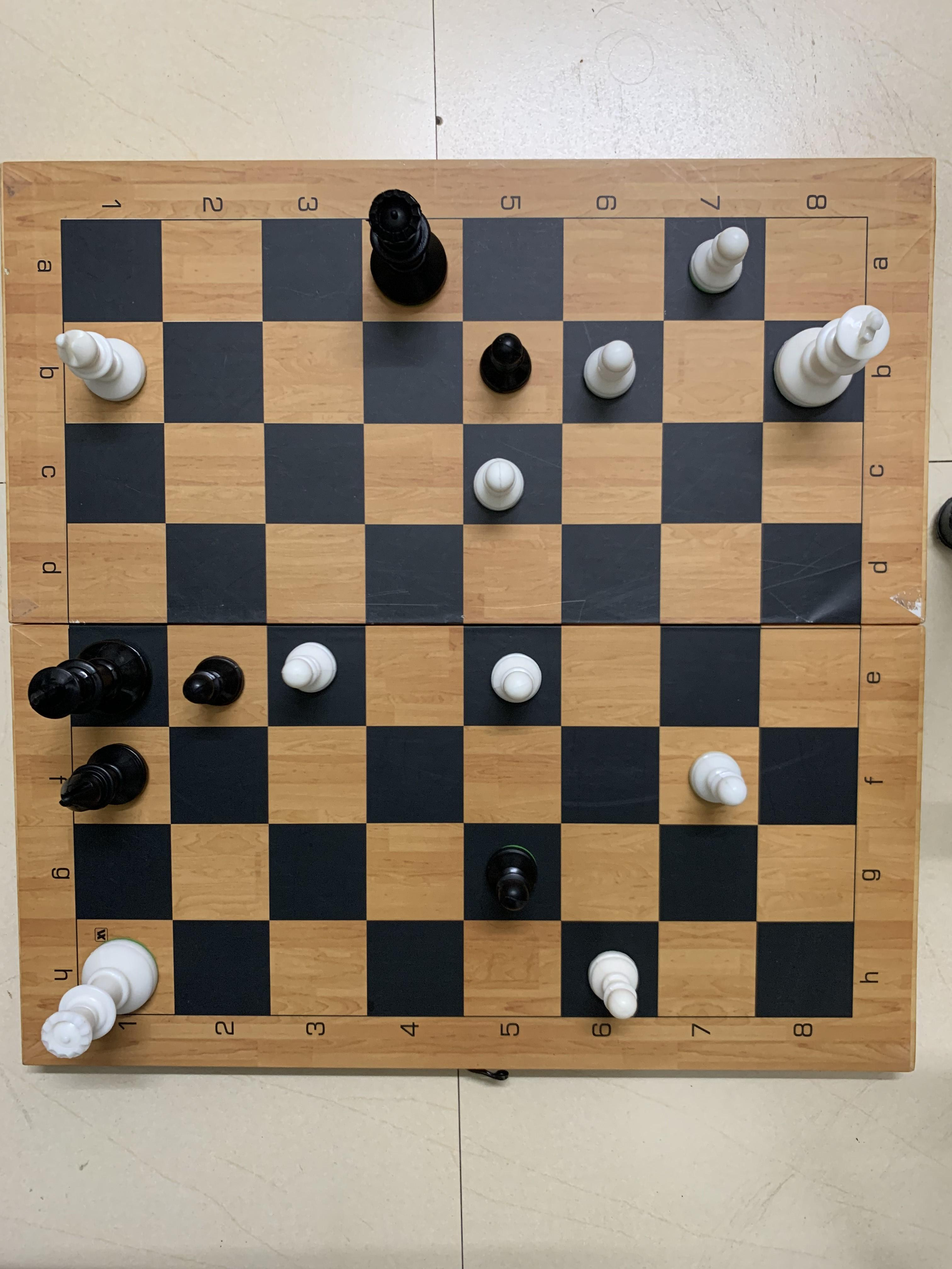black_bishop: (50, 735, 158, 818)
black_king: (25, 632, 159, 721)
black_pawn: (475, 833, 545, 917), (175, 647, 252, 711), (476, 330, 540, 395)
black_queen: (360, 182, 455, 313)
white_bishop: (53, 318, 151, 412)
white_king: (770, 298, 897, 413)
white_pawn: (581, 946, 649, 1023), (685, 222, 750, 300), (682, 747, 754, 811), (466, 453, 531, 517), (581, 338, 642, 403), (276, 636, 340, 697), (481, 648, 546, 706)
white_queen: (32, 935, 172, 1063)
